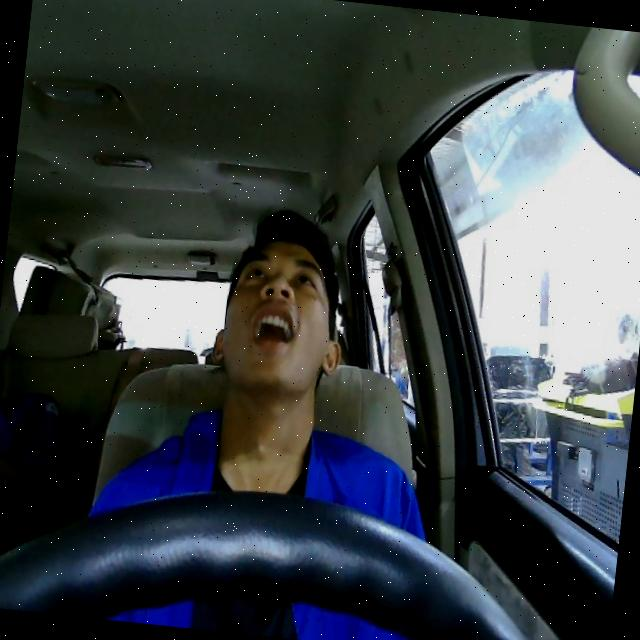yarning: (210, 232, 349, 394)
